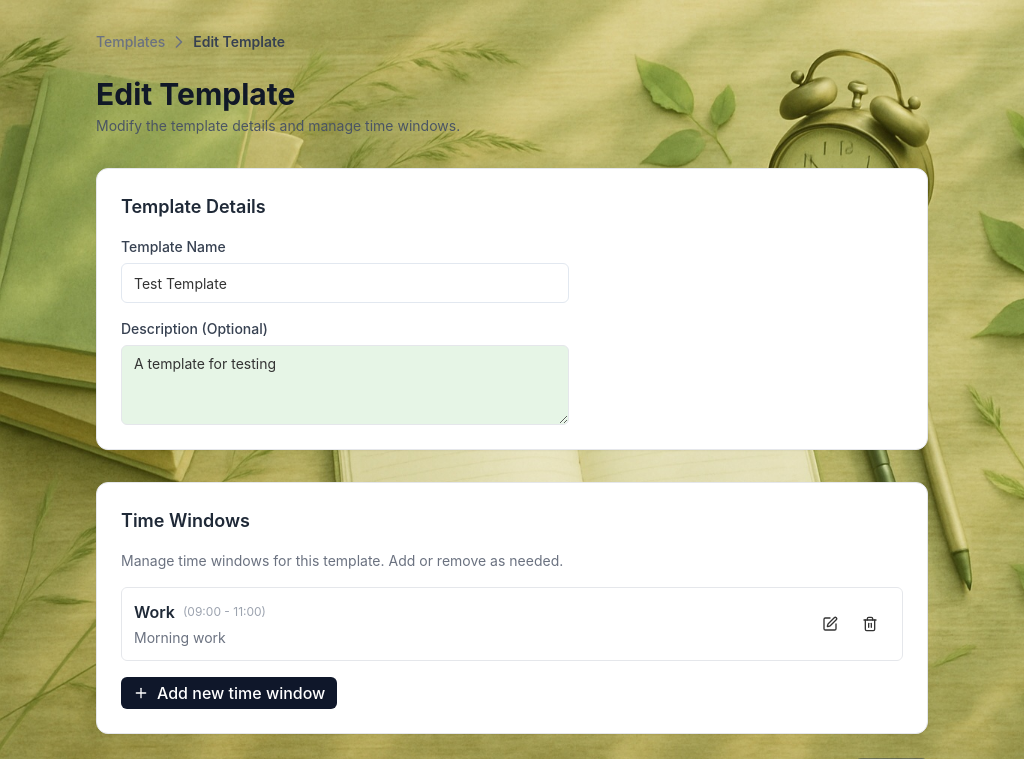
EditTemplatePage › Edit Mode › shows saving state during template update
Replace the text in the field labelled "Template Name" with "Updating..." at x=345, y=283, box [121, 263, 569, 303]
(page scrolled)
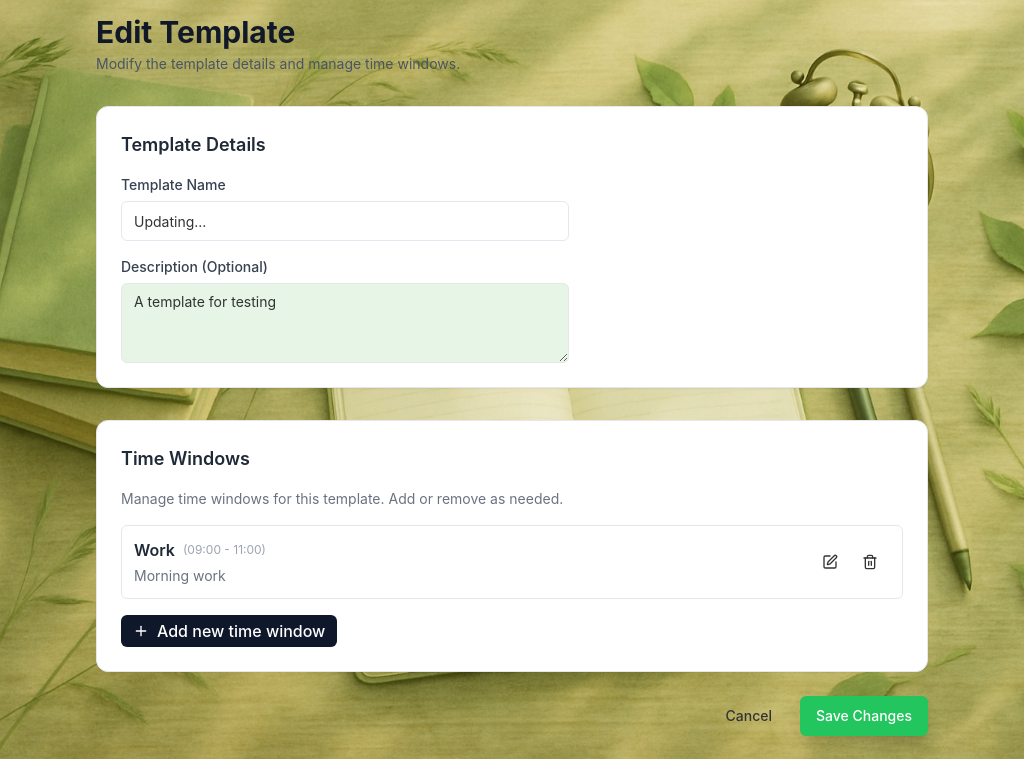
Click the button "Save Changes" at x=864, y=716, box [800, 696, 928, 736]
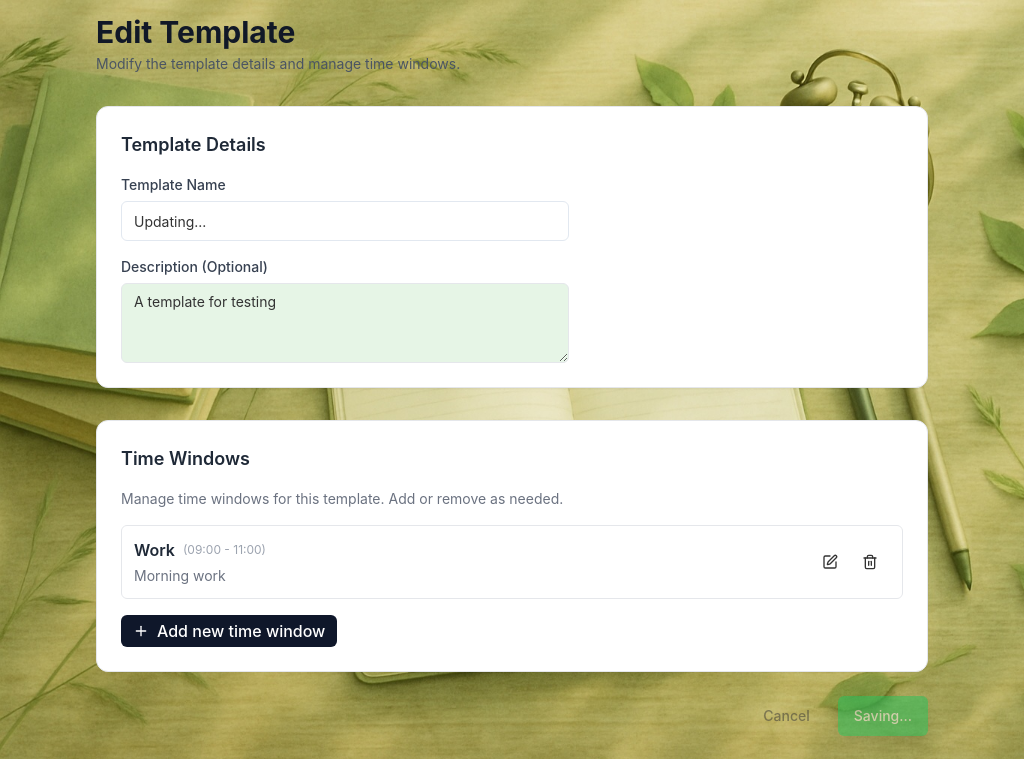
Now the button "Saving..." is shown, box [838, 696, 928, 736]
